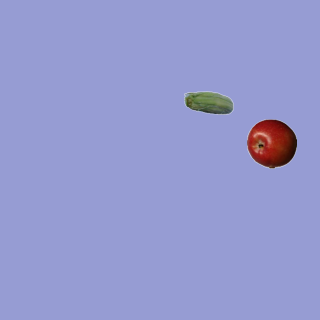Apple Braeburn: (246, 118, 296, 168)
Corn Husk: (183, 79, 233, 129)
